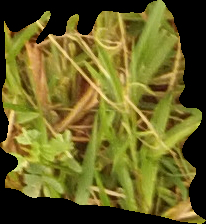grass: (1, 1, 205, 223)
